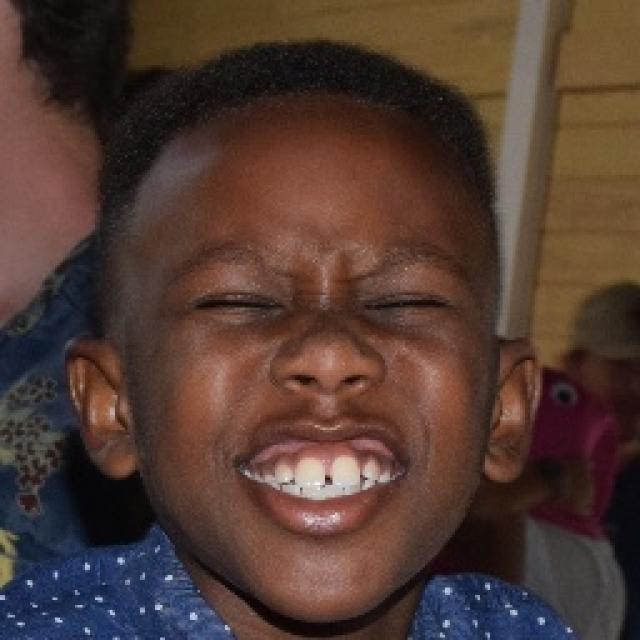earlobe: (96, 429, 142, 479), (480, 438, 522, 486)
eye: (360, 294, 451, 318), (197, 290, 274, 316)
nose: (273, 372, 380, 416)
wholeear: (62, 336, 142, 479), (480, 337, 542, 485)
